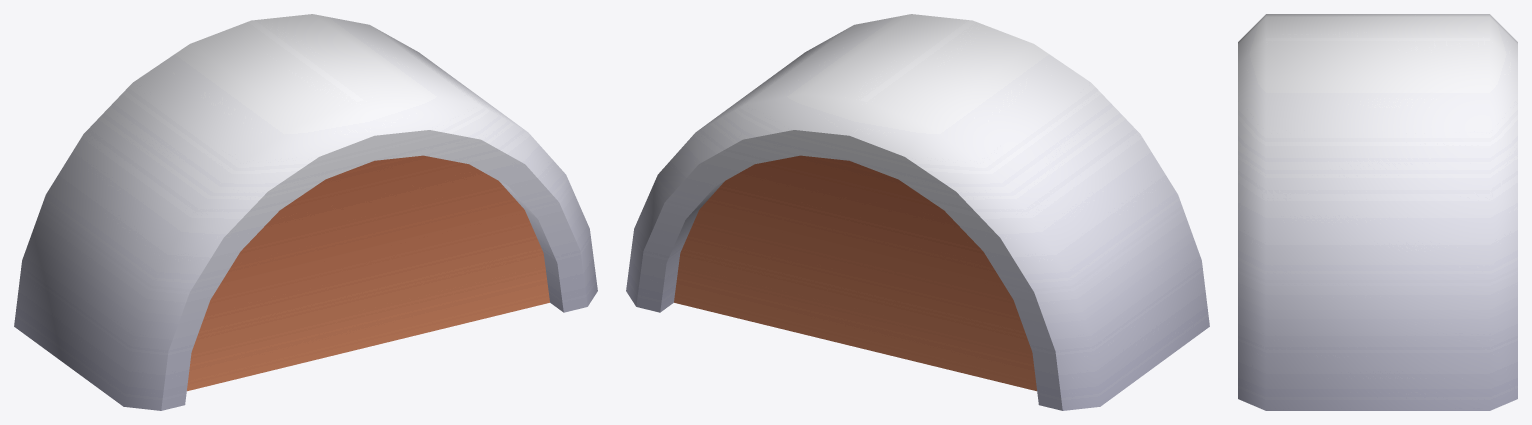
Rendered from block-snow-curve.glb.
3 renders of one model, left to right at view 1: azimuth 30°, elevation 25°; view 2: azimuth 150°, elevation 25°; view 3: azimuth 270°, elevation 25°, orthographic. The views are drawn at different scales.
Parts seen in each view (by area): view 1: block-snow-curve; view 2: block-snow-curve; view 3: block-snow-curve.
Boxes of the visible parts, box(x1,y1,x2,y2) form: block-snow-curve: box(14, 14, 597, 410); block-snow-curve: box(626, 14, 1209, 410); block-snow-curve: box(1238, 14, 1517, 410).
Size of the model in its own units: 2 by 1 by 1.
1 material, 1 textured.
